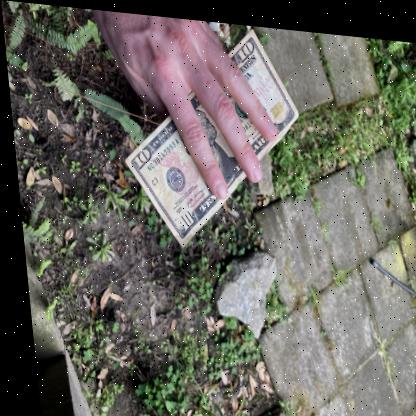ten-front: (120, 24, 298, 245)
